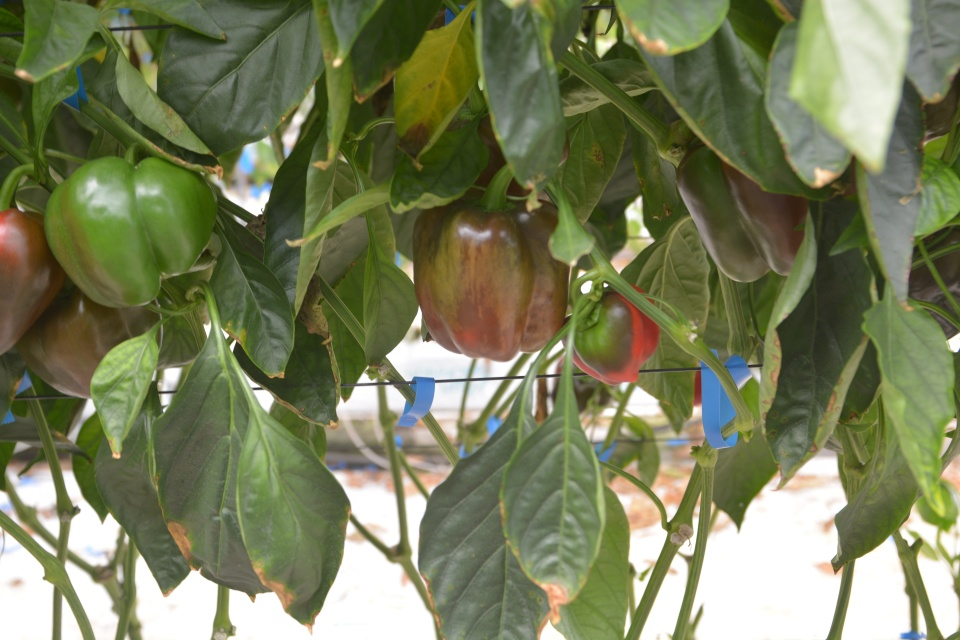fruit: (43, 153, 219, 310), (411, 191, 569, 362), (673, 136, 808, 284), (14, 284, 164, 400), (560, 281, 662, 388), (0, 205, 65, 359)
pedicle: (467, 195, 517, 213), (576, 299, 601, 331)
